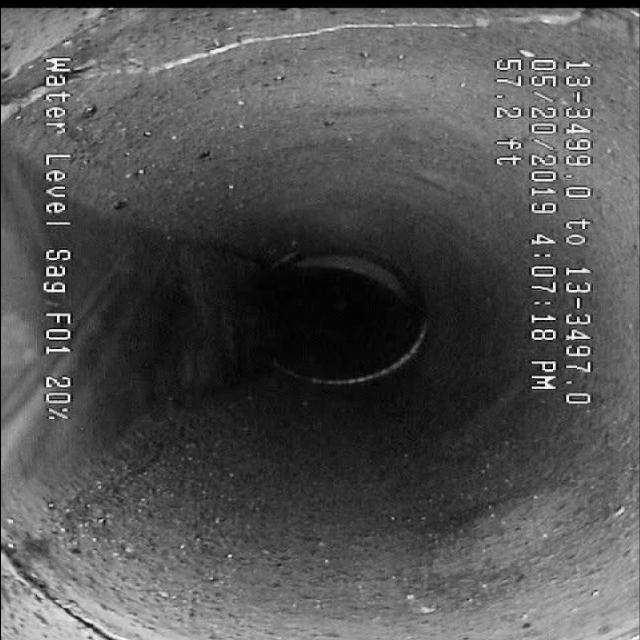Crack: (90, 10, 439, 84)
